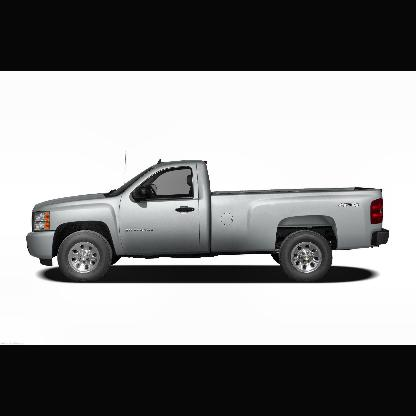Chevrolet Silverado 1500 Regular Cab 2012: (26, 158, 391, 284)
